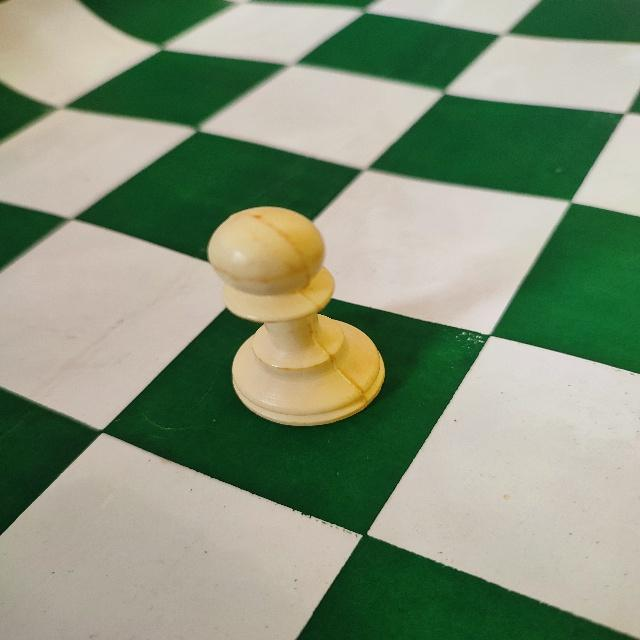Pawn: (202, 200, 387, 428)
